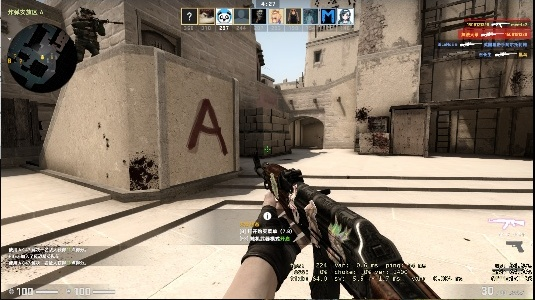body: (70, 7, 104, 60)
head: (81, 7, 96, 19)
